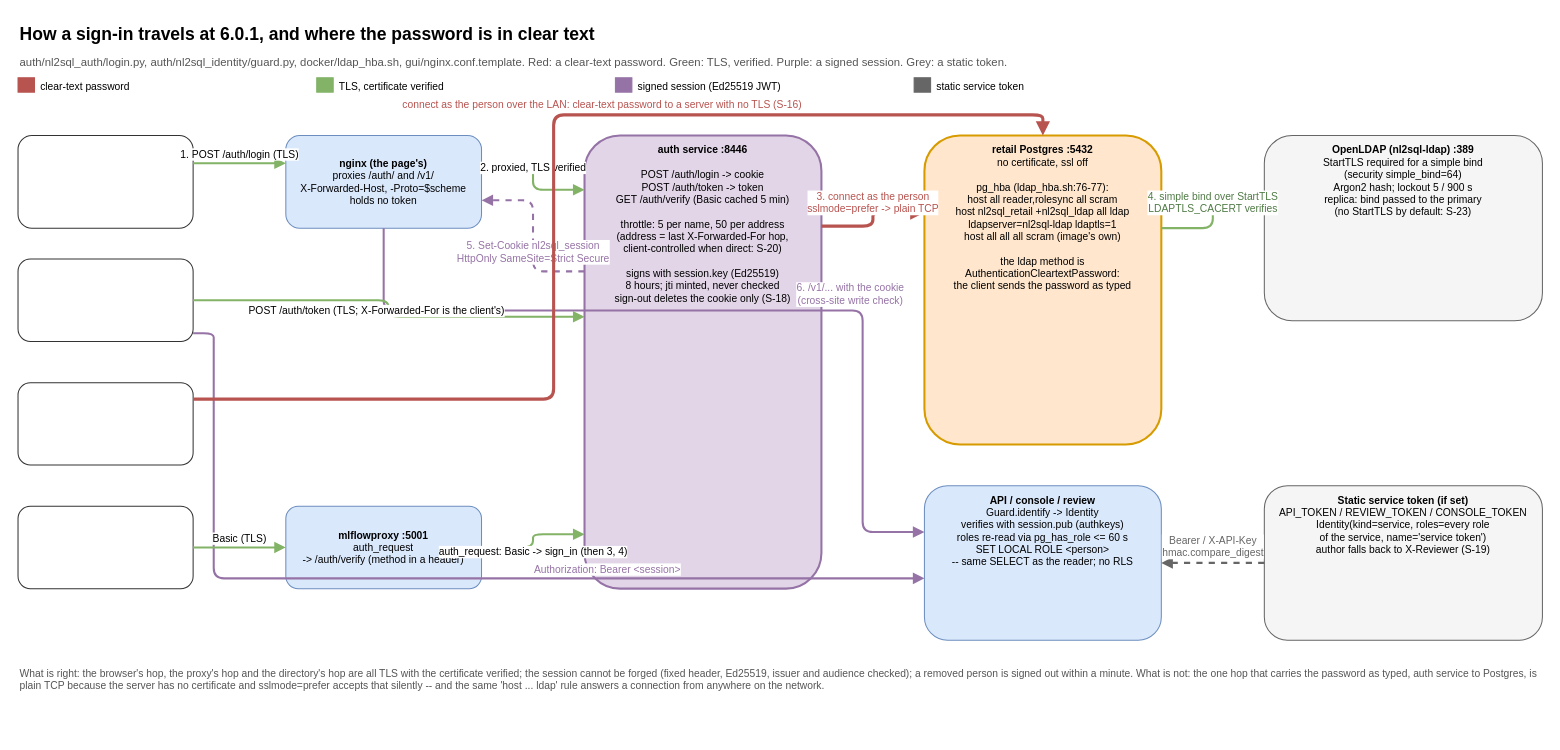
This 1560x750 diagram has some shape labels left out. Here are the shapes that lost their labels. From the top down, the centre of each, then its label:
At (x=105, y=181): "Browser any page :8080 / :8081 / :8083 (HTTPS, self-signed)".
At (x=105, y=299): "Desktop client --auth-url https://host:8446 token kept in memory".
At (x=105, y=423): "psql / a BI tool on another machine (documented: rolesync.py:14)".
At (x=105, y=547): "MLflow client MLFLOW_TRACKING_USERNAME / _PASSWORD (Basic)".
